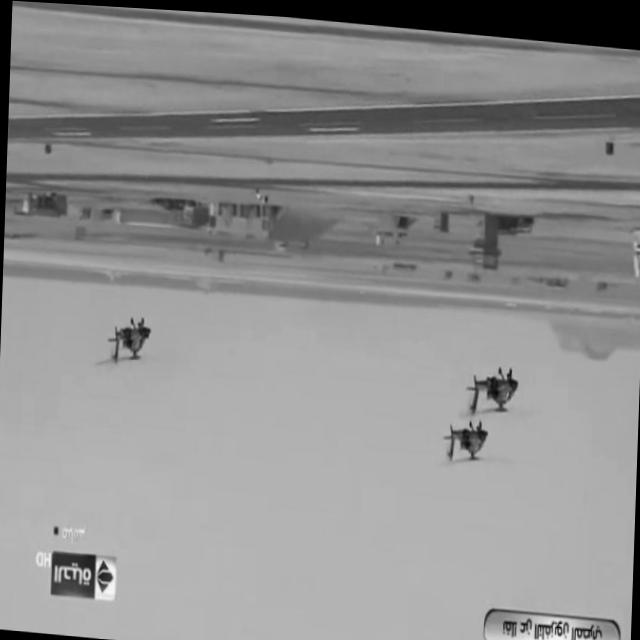helikopter: (428, 349, 520, 470), (81, 287, 166, 395)
